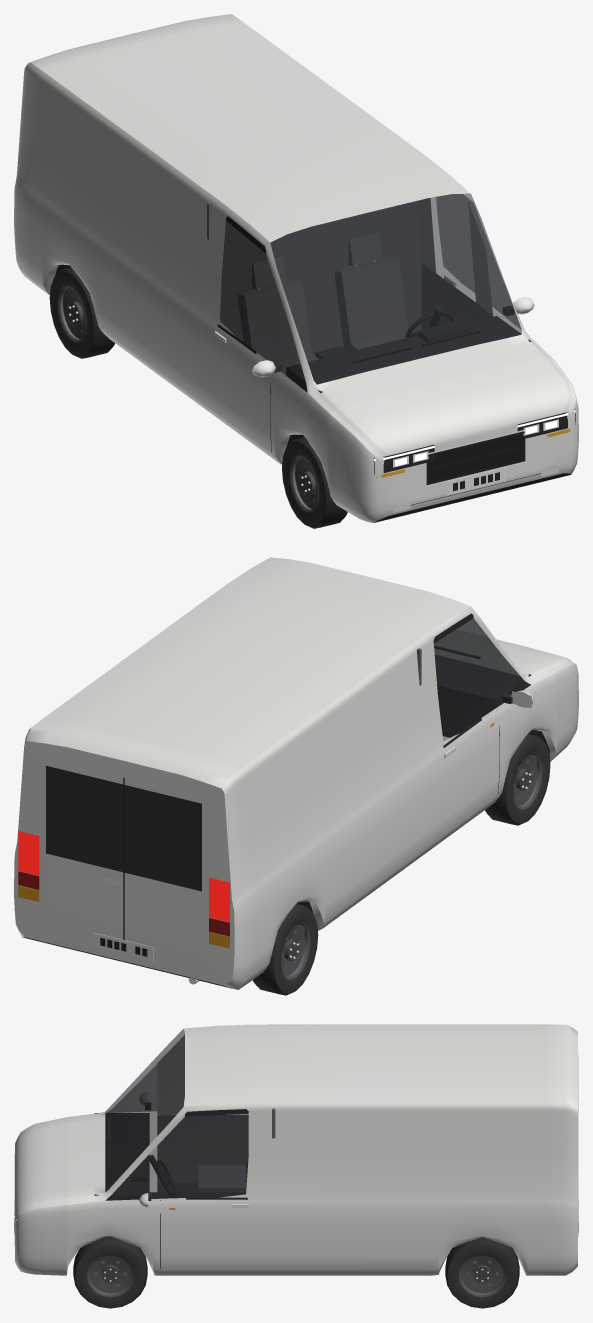
The model's file is van_white.glb.
3 renders of one model, top to bottom at view 1: azimuth 30°, elevation 25°; view 2: azimuth 150°, elevation 25°; view 3: azimuth 270°, elevation 25°, orthographic. The views are drawn at different scales.
Visible parts, largest first — view 1: van_white_body, Wheel_FR, Wheel_RR; view 2: van_white_body, Wheel_FR, Wheel_RR; view 3: van_white_body, Wheel_FL, Wheel_RL.
Part boxes in pixels (x1,y1,x2,y2): van_white_body: (14, 14, 578, 522); Wheel_FR: (282, 436, 347, 528); Wheel_RR: (49, 267, 114, 358); van_white_body: (14, 557, 578, 989); Wheel_FR: (485, 733, 550, 825); Wheel_RR: (253, 904, 318, 995); van_white_body: (14, 1024, 578, 1275); Wheel_FL: (73, 1236, 147, 1308); Wheel_RL: (445, 1237, 519, 1308).
Size of the model in its own units: 0.1225 by 0.1066 by 0.2658.
Materials: 8 (1 with a texture image).
